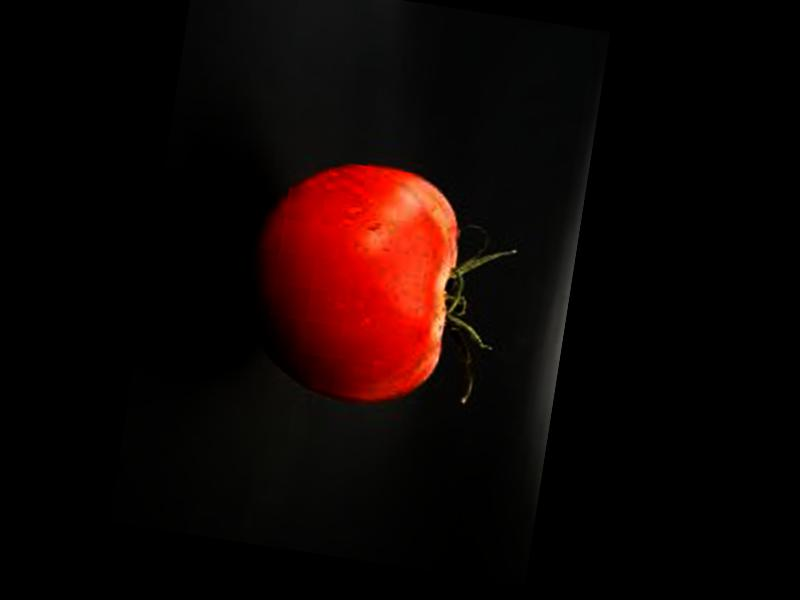Tomato: (235, 146, 469, 412)
